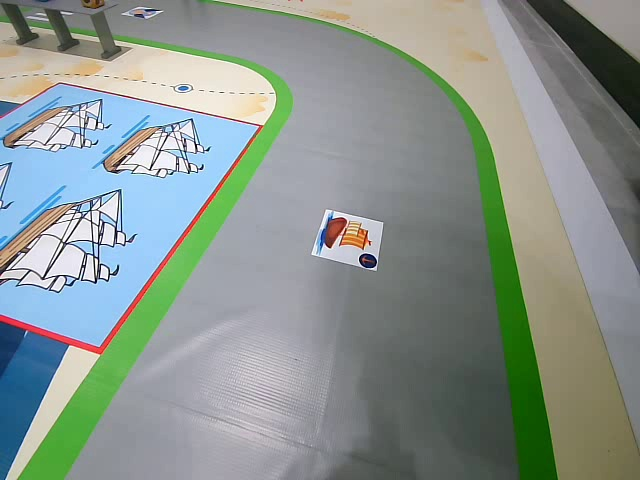fishingBoatsSingLate: (310, 206, 385, 276)
